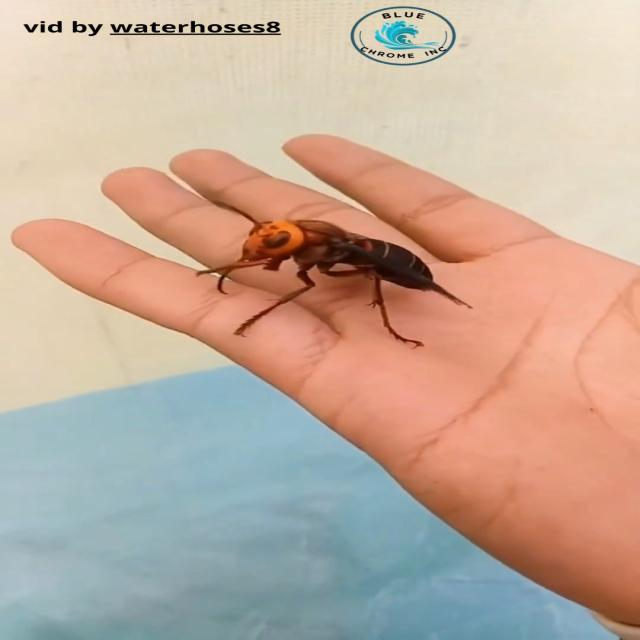Hornets: (191, 196, 479, 352)
